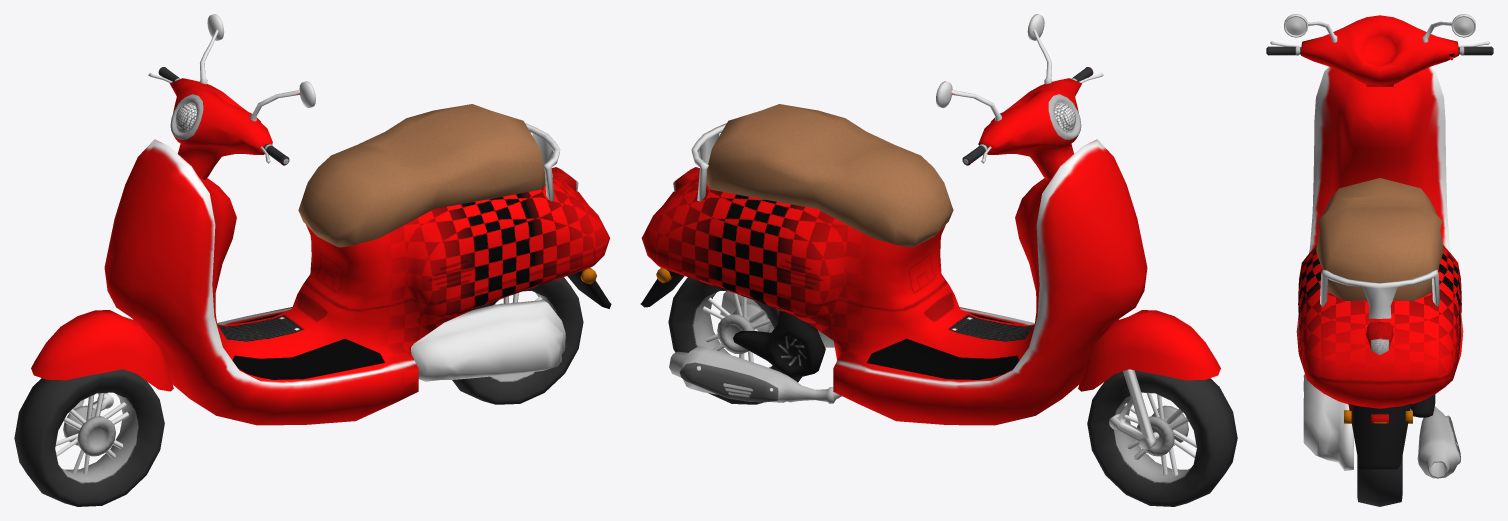
The model's file is simplescooter_redwithcheckerpattern.fbx.
3 renders of one model, left to right at view 1: azimuth 30°, elevation 25°; view 2: azimuth 150°, elevation 25°; view 3: azimuth 270°, elevation 25°, orthographic. The views are drawn at different scales.
Visible parts, largest first — view 1: lowpolybase.006, lowpolybase.007, wheellowpoly.006, moteurlowpoly.003, devantrouelowpoly.003, devantlowpoly.003, wheellowpoly.007, tapislowpoly.003, derrierelowpoly.003, retrolowpoly.007; view 2: lowpolybase.006, lowpolybase.007, wheellowpoly.006, devantrouelowpoly.003, devantlowpoly.003, wheellowpoly.007, echaplowpoly.003, tapislowpoly.003, ventilolowpoly.003, Cylinder.004, derrierelowpoly.003, retrolowpoly.006; view 3: lowpolybase.006, lowpolybase.007, devantlowpoly.003, moteurlowpoly.003, trucderrirerelowpoly.003, echaplowpoly.003, derrierelowpoly.003, wheellowpoly.007, Plane.003, retrolowpoly.006, retrolowpoly.007, ventilolowpoly.003 (+2 smaller).
Boxes of the visible parts, left/top/right/bottom form: lowpolybase.006: left=104, top=139, right=609, bottom=425; lowpolybase.007: left=298, top=104, right=545, bottom=247; wheellowpoly.006: left=14, top=369, right=164, bottom=506; moteurlowpoly.003: left=411, top=300, right=565, bottom=381; devantrouelowpoly.003: left=31, top=310, right=173, bottom=391; devantlowpoly.003: left=169, top=78, right=272, bottom=179; wheellowpoly.007: left=452, top=277, right=583, bottom=404; tapislowpoly.003: left=232, top=313, right=384, bottom=379; derrierelowpoly.003: left=525, top=123, right=560, bottom=201; retrolowpoly.007: left=250, top=81, right=315, bottom=121; lowpolybase.006: left=641, top=139, right=1147, bottom=425; lowpolybase.007: left=706, top=104, right=953, bottom=247; wheellowpoly.006: left=1087, top=370, right=1237, bottom=506; devantrouelowpoly.003: left=1078, top=310, right=1220, bottom=391; devantlowpoly.003: left=979, top=78, right=1081, bottom=179; wheellowpoly.007: left=668, top=277, right=817, bottom=404; echaplowpoly.003: left=669, top=346, right=841, bottom=403; tapislowpoly.003: left=867, top=313, right=1019, bottom=379; ventilolowpoly.003: left=733, top=310, right=825, bottom=378; Cylinder.004: left=1109, top=369, right=1159, bottom=449; derrierelowpoly.003: left=691, top=123, right=726, bottom=201; retrolowpoly.006: left=936, top=81, right=1001, bottom=121; lowpolybase.006: left=1296, top=66, right=1463, bottom=408; lowpolybase.007: left=1316, top=178, right=1443, bottom=300; devantlowpoly.003: left=1301, top=15, right=1458, bottom=86; moteurlowpoly.003: left=1303, top=374, right=1353, bottom=470; trucderrirerelowpoly.003: left=1348, top=403, right=1411, bottom=469; echaplowpoly.003: left=1417, top=406, right=1460, bottom=478; derrierelowpoly.003: left=1320, top=269, right=1439, bottom=318; wheellowpoly.007: left=1357, top=456, right=1402, bottom=506; Plane.003: left=1366, top=321, right=1393, bottom=354; retrolowpoly.006: left=1422, top=14, right=1475, bottom=42; retrolowpoly.007: left=1284, top=14, right=1337, bottom=42; ventilolowpoly.003: left=1411, top=394, right=1435, bottom=417.
Size of the model in its own units: 372 by 252 by 138.
Materials: 1 (1 with a texture image).
